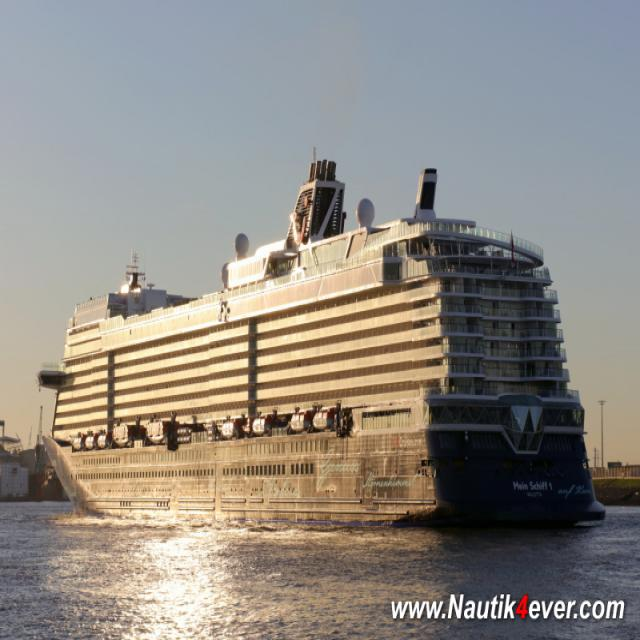cruises: (37, 143, 615, 550)
